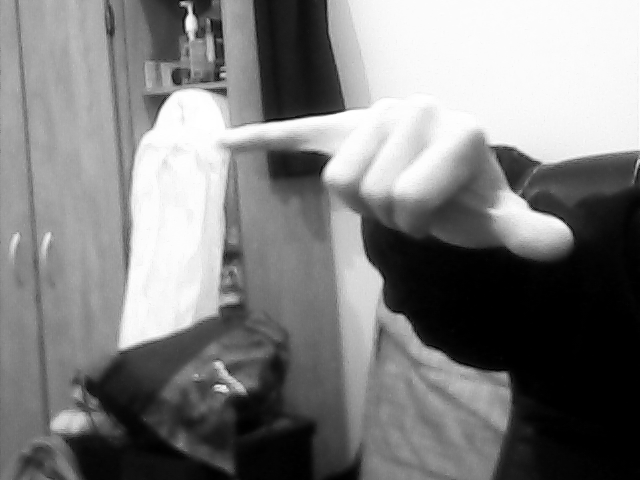aloha: (205, 77, 576, 264)
